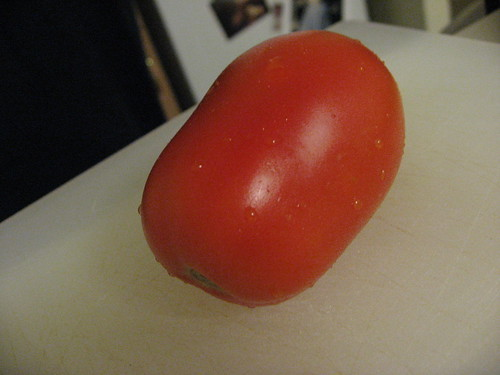tomato: (140, 29, 404, 305)
